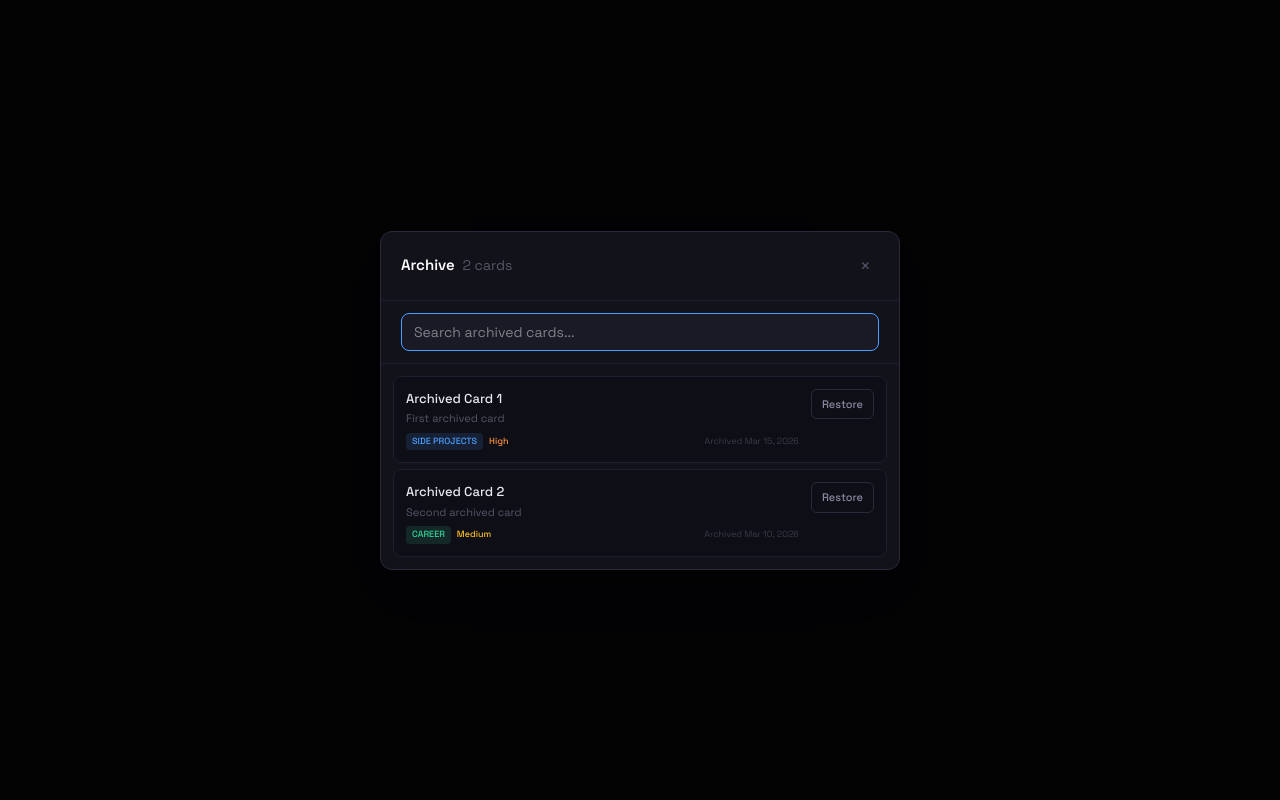
ArchivePanel › shows "No matches found" when search has no results
The image size is (1280, 800).
Expected: the text "Archived Card 1" is shown, [406,390,502,406]
Type "nonexistent" into the field with placeholder "Search archived cards...".
click(640, 332); type("nonexistent")  # box [401,312,879,350]
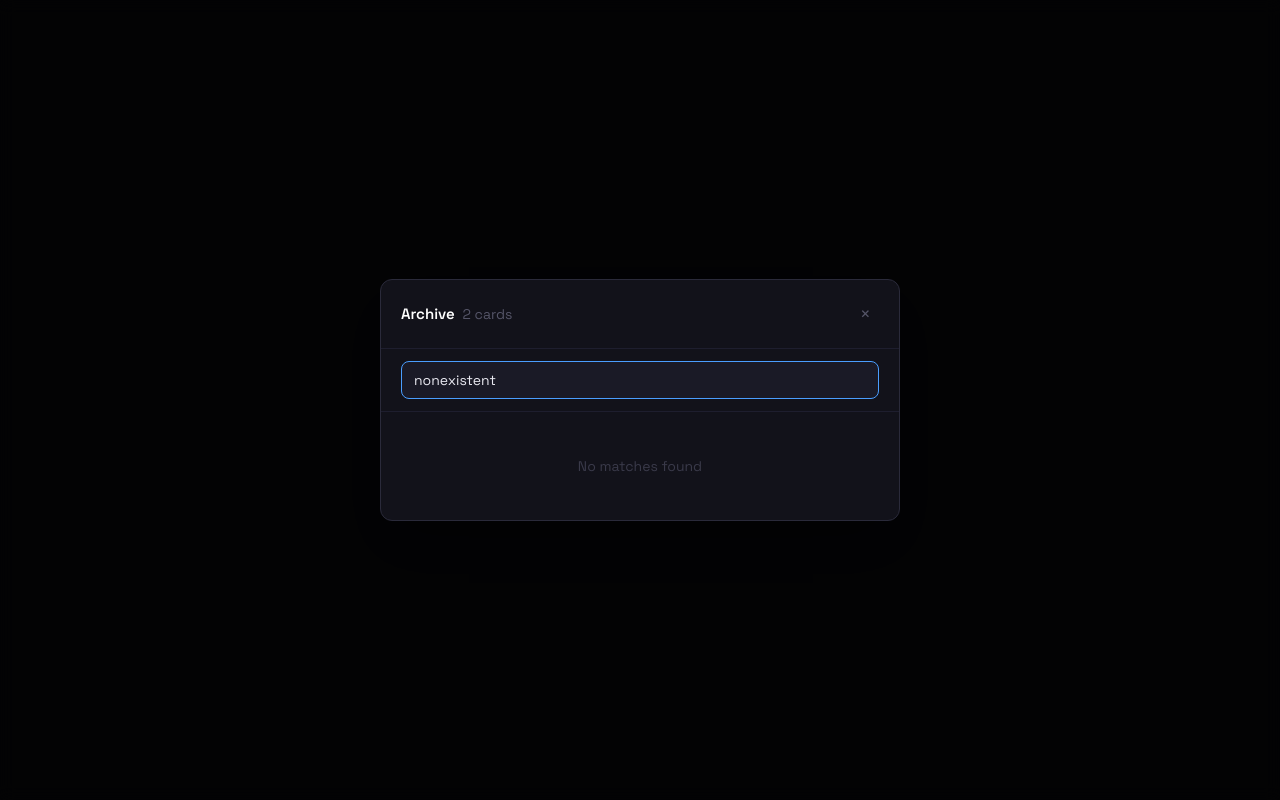
Expected: the text "No matches found" is shown, [578,457,702,475]
